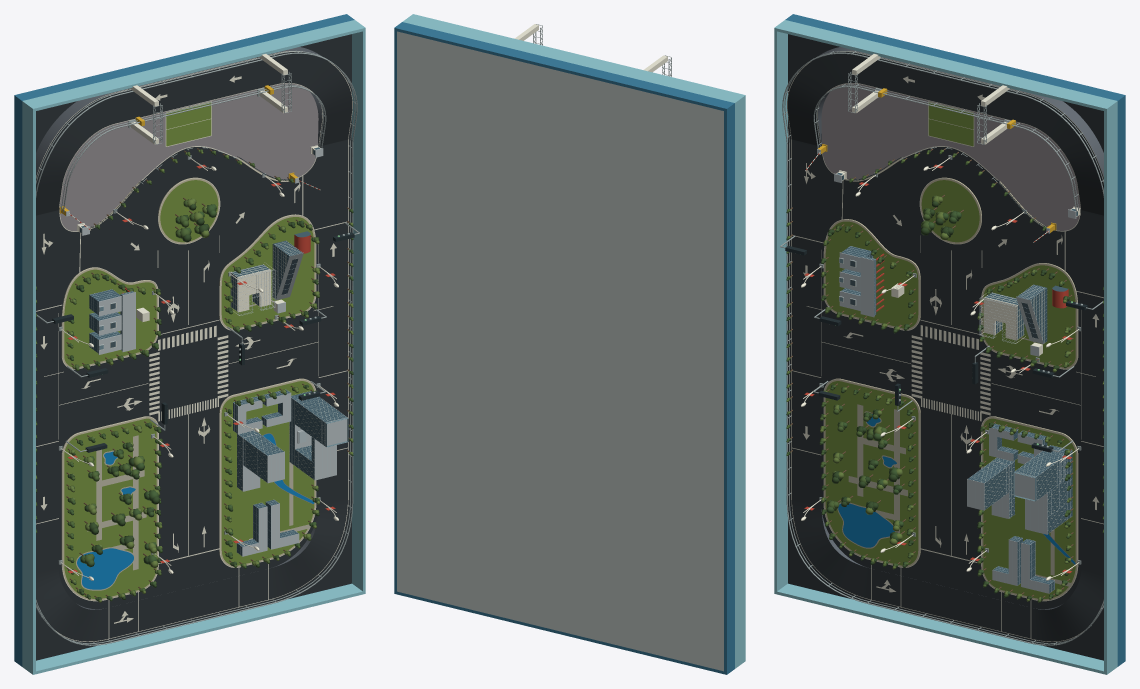
Rendered from dongfeng_sandbox.obj.
3 renders of one model, left to right at view 1: azimuth 30°, elevation 25°; view 2: azimuth 150°, elevation 25°; view 3: azimuth 330°, elevation 25°, orthographic.
Parts seen in each view (by area): view 1: ground_asphalt, elevated_road_asphalt, landscape_grass, boundary_acrylic, yard_grey_yard, markings_white, boundary_blue_board, buildings_glass, buildings_roof, rails_steel, landscape_kerb, buildings_frame (+13 smaller); view 2: base_base, boundary_blue_board, boundary_acrylic; view 3: ground_asphalt, elevated_road_asphalt, landscape_grass, boundary_acrylic, yard_grey_yard, markings_white, boundary_blue_board, buildings_glass, buildings_roof, rails_steel, landscape_kerb, buildings_frame (+13 smaller).
Part boxes in pixels (bbox=[...]): ground_asphalt: bbox=[36, 34, 351, 660]; elevated_road_asphalt: bbox=[36, 52, 352, 641]; landscape_grass: bbox=[64, 180, 314, 598]; boundary_acrylic: bbox=[22, 20, 365, 674]; yard_grey_yard: bbox=[59, 83, 318, 231]; markings_white: bbox=[36, 51, 352, 641]; boundary_blue_board: bbox=[14, 14, 354, 666]; buildings_glass: bbox=[89, 231, 346, 555]; buildings_roof: bbox=[98, 252, 347, 556]; rails_steel: bbox=[36, 50, 357, 645]; landscape_kerb: bbox=[61, 157, 315, 600]; buildings_frame: bbox=[89, 240, 347, 556]; base_base: bbox=[397, 31, 723, 671]; boundary_blue_board: bbox=[394, 22, 734, 674]; boundary_acrylic: bbox=[402, 14, 745, 668]; ground_asphalt: bbox=[788, 34, 1103, 660]; elevated_road_asphalt: bbox=[787, 52, 1103, 641]; landscape_grass: bbox=[825, 180, 1075, 598]; boundary_acrylic: bbox=[774, 20, 1117, 674]; yard_grey_yard: bbox=[821, 83, 1080, 230]; markings_white: bbox=[787, 51, 1103, 641]; boundary_blue_board: bbox=[785, 14, 1125, 666]; buildings_glass: bbox=[841, 246, 1072, 592]; buildings_roof: bbox=[839, 252, 1067, 593]; rails_steel: bbox=[782, 51, 1103, 645]; landscape_kerb: bbox=[824, 157, 1078, 600]; buildings_frame: bbox=[839, 246, 1072, 593].
Size of the model in its own units: 3.36 by 5.46 by 0.8068.
